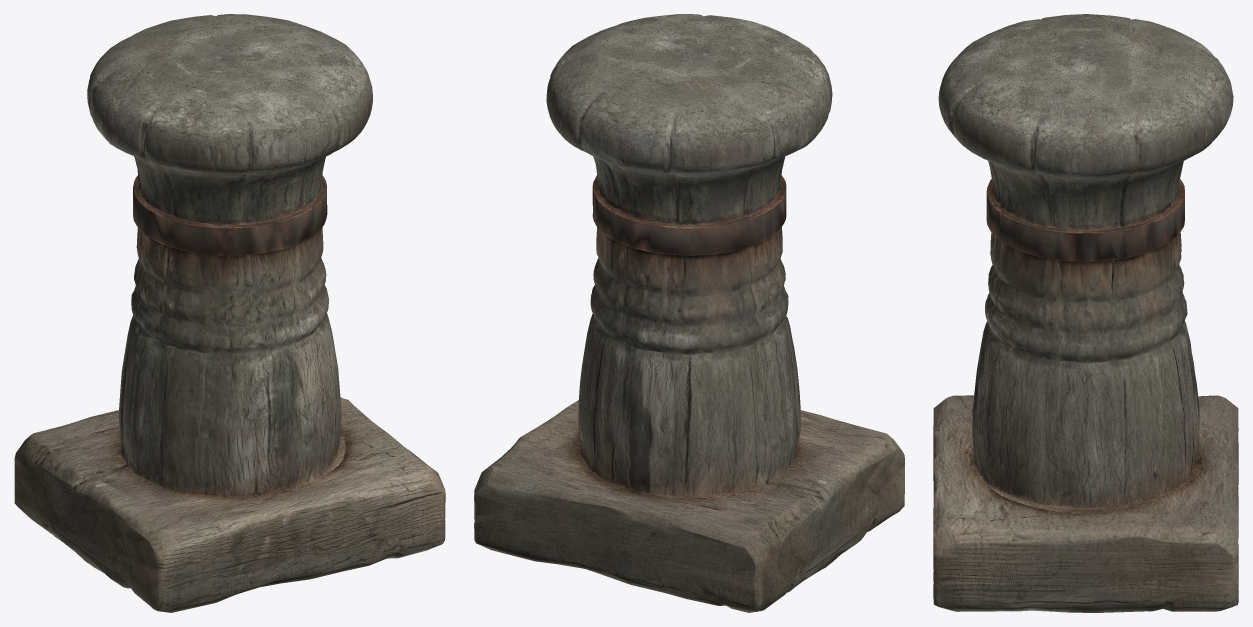
File: bollard.glb
3 views of the same model, side by side, from view 1: azimuth 30°, elevation 25°; view 2: azimuth 150°, elevation 25°; view 3: azimuth 270°, elevation 25° (orthographic). The views are drawn at different scales.
Parts seen in each view (by area): view 1: Mesh_0; view 2: Mesh_0; view 3: Mesh_0.
Boxes of the visible parts, box(x1,y1,x2,y2) form: Mesh_0: box(14, 14, 445, 612); Mesh_0: box(474, 14, 904, 612); Mesh_0: box(933, 14, 1238, 612).
Size of the model in its own units: 1.2 by 1.9 by 1.07.
Materials: 1 (1 with a texture image).
